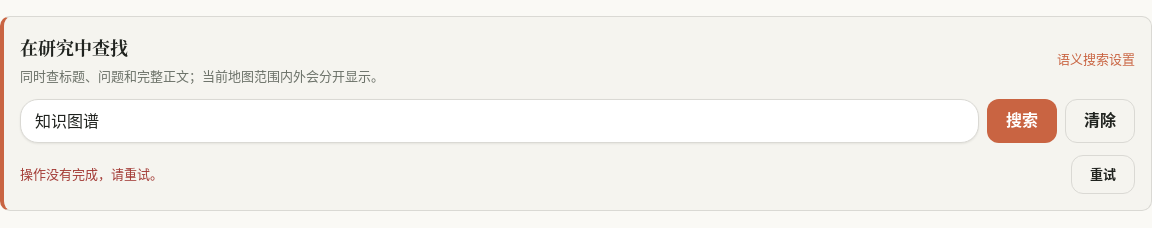
it: ResearchMapSearch › 请求失败时保留查询并允许原地重试
This screenshot has width=1152, height=228.
Expected: the message shows "操作没有完成，请重试。", [20,166,163,182]
Step 1. Click the button "重试" → (1103, 174), box [1071,155,1135,194]
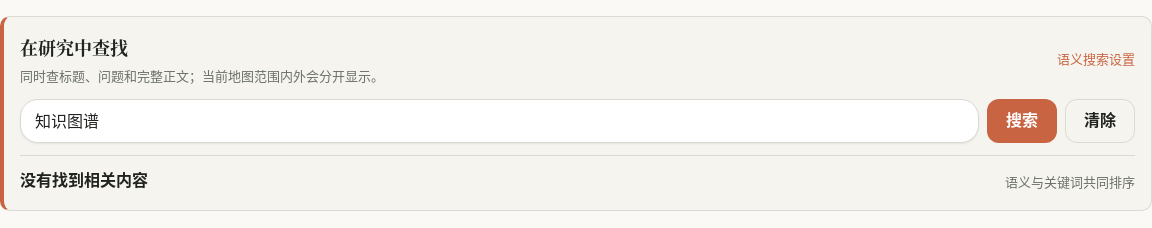
Now the text "没有找到相关内容" is shown, box [20,168,148,194]
